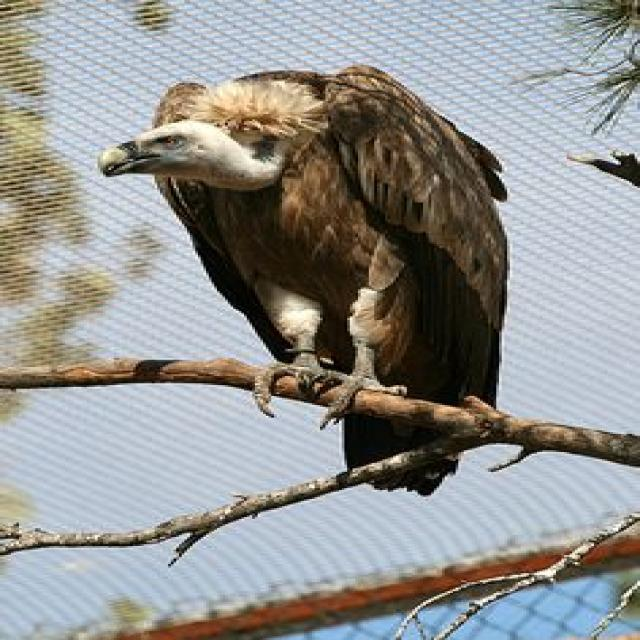Carnivorous: (95, 65, 510, 421)
